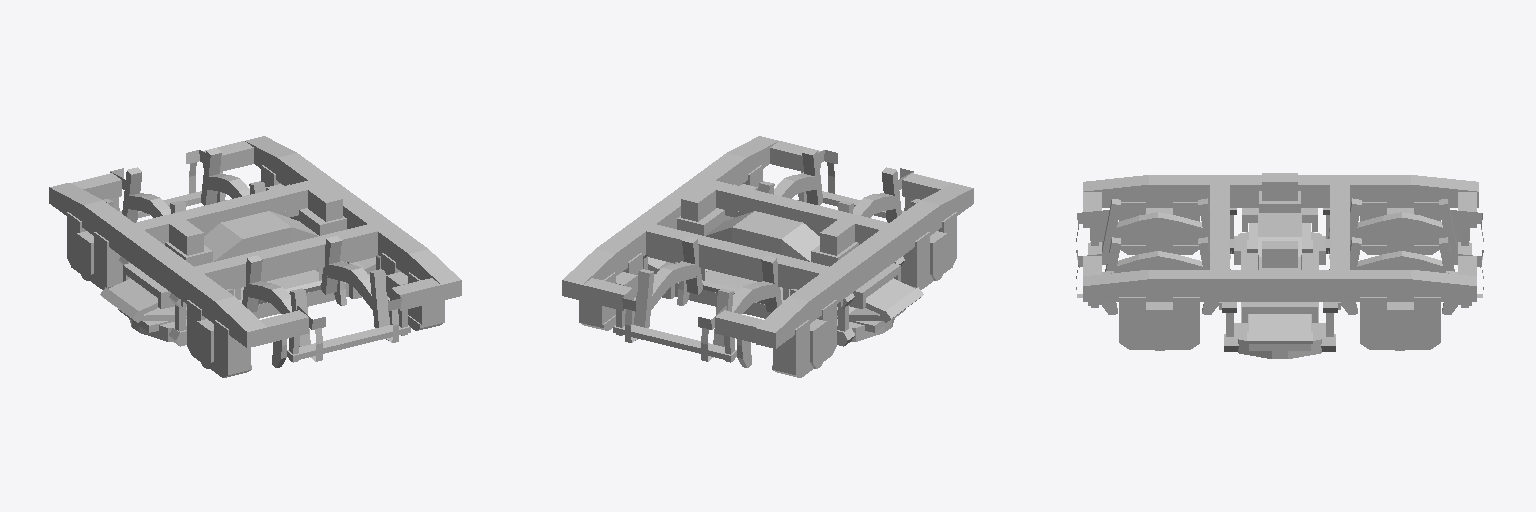
The model's file is tkz1_frame.obj.
3 views of the same model, side by side, from view 1: azimuth 30°, elevation 25°; view 2: azimuth 150°, elevation 25°; view 3: azimuth 270°, elevation 25° (orthographic).
Visible parts, largest first — view 1: cube; view 2: cube; view 3: cube.
Part boxes in pixels (x1,y1,x2,y2): cube: (49,136,461,377); cube: (562,136,973,377); cube: (1076,173,1483,358).
Size of the model in its own units: 2.61 by 0.7969 by 3.3.